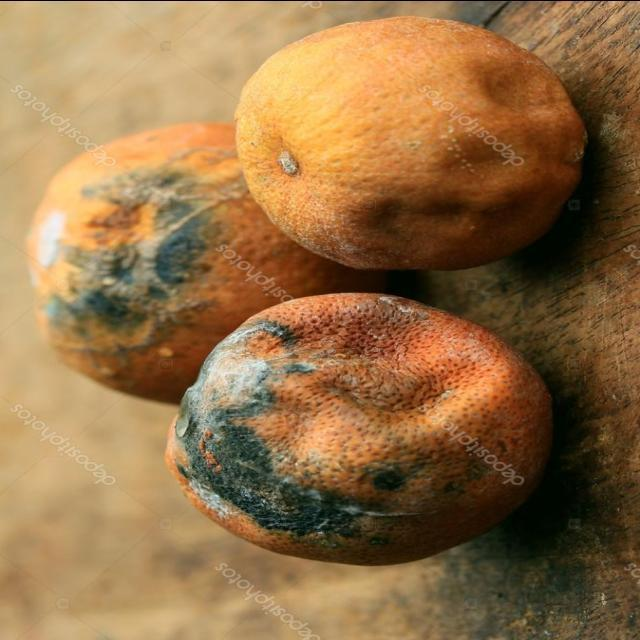Rotten: (166, 292, 554, 559)
overripe: (236, 13, 584, 267)
